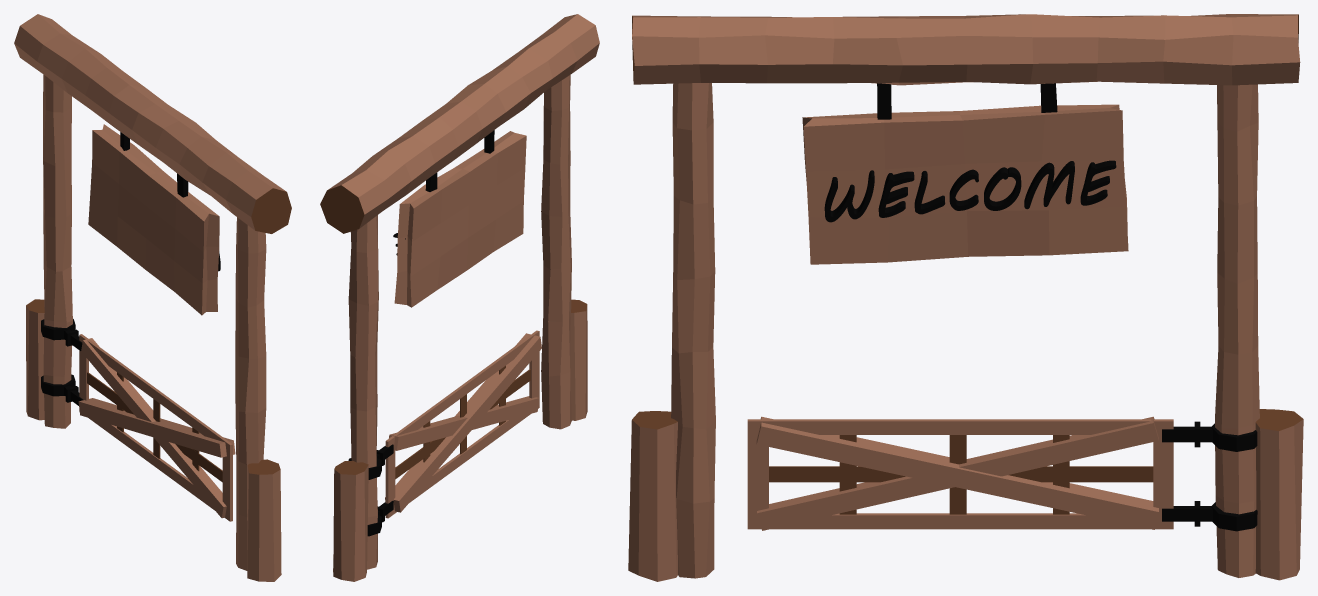
File: FenceGate.fbx
3 views of the same model, side by side, from view 1: azimuth 30°, elevation 25°; view 2: azimuth 150°, elevation 25°; view 3: azimuth 270°, elevation 25° (orthographic). The views are drawn at different scales.
Visible parts, largest first — view 1: Gate; view 2: Gate; view 3: Gate, Text.002.
Part boxes in pixels (x1,y1,x2,y2): Gate: (14, 14, 291, 581); Gate: (320, 14, 599, 581); Gate: (628, 14, 1303, 581); Text.002: (824, 160, 1116, 222).
Size of the model in its own units: 15.75 by 130 by 143.
